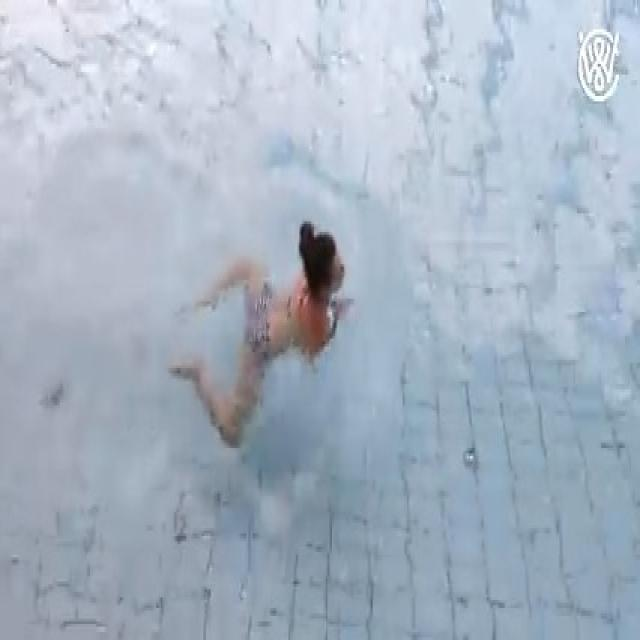Swimming: (173, 228, 357, 446)
